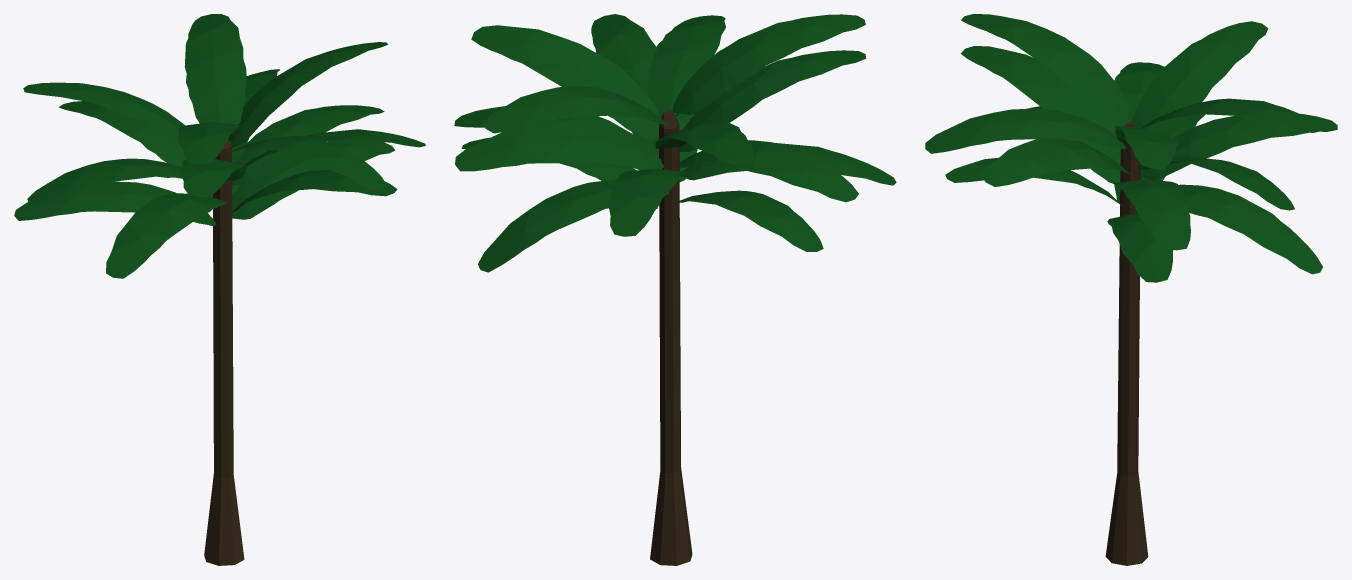
Rendered from BananaTree.fbx.
3 renders of one model, left to right at view 1: azimuth 30°, elevation 25°; view 2: azimuth 150°, elevation 25°; view 3: azimuth 270°, elevation 25°, orthographic. The views are drawn at different scales.
Parts seen in each view (by area): view 1: BananaTree; view 2: BananaTree; view 3: BananaTree.
Boxes of the visible parts, x1,y1,x2,y2 form: BananaTree: (14, 14, 425, 565); BananaTree: (454, 14, 896, 565); BananaTree: (925, 14, 1337, 565).
Size of the model in its own units: 128 by 159 by 121.
